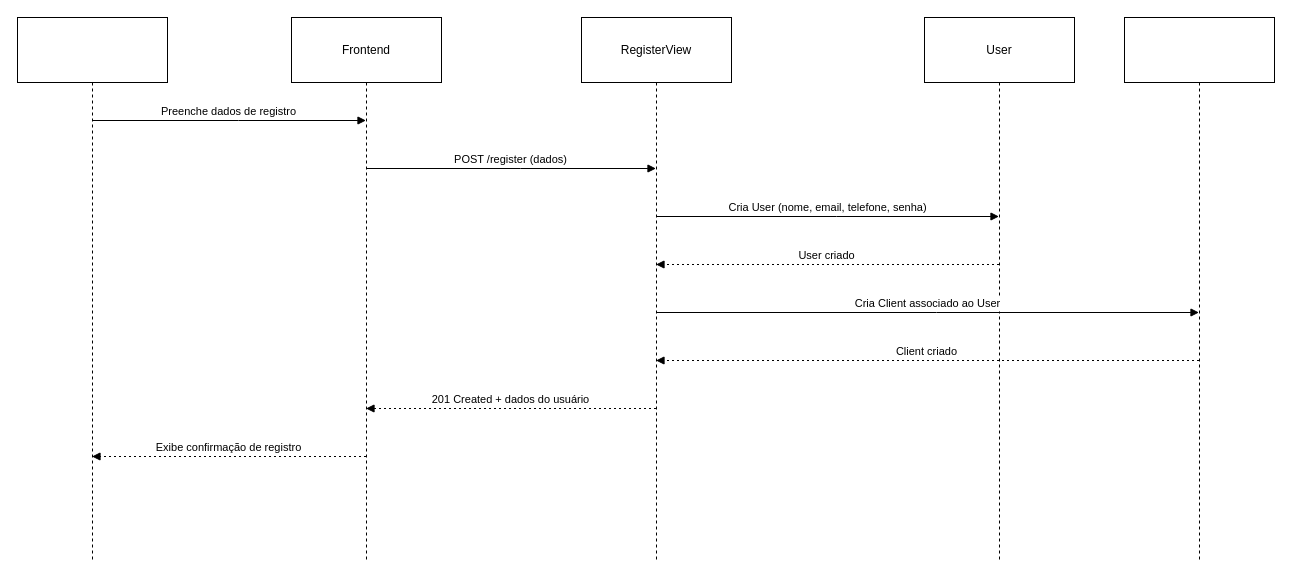
Some shapes in this 1292 by 579 pixel diagram are drawn without their labels. The shapes that lost their labels are listed below. From the top down, each one's box as (x1, y1, x2, y2) in pixels, then its label:
(16, 16, 168, 562): Cliente
(1124, 16, 1274, 562): Client
